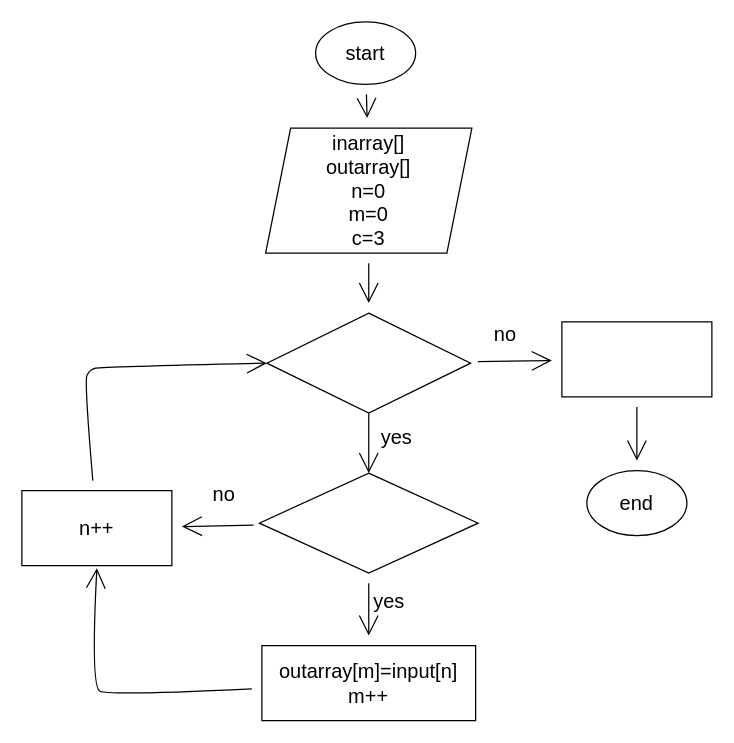
This 734x743 diagram has some shape labels left out. Here are the shapes that lost their labels. From the top down, the centre of each, then its label:
At (368,362): "n<inarray.Length".
At (636,359): "outarray".
At (368,522): "input[n].Length<=c".
